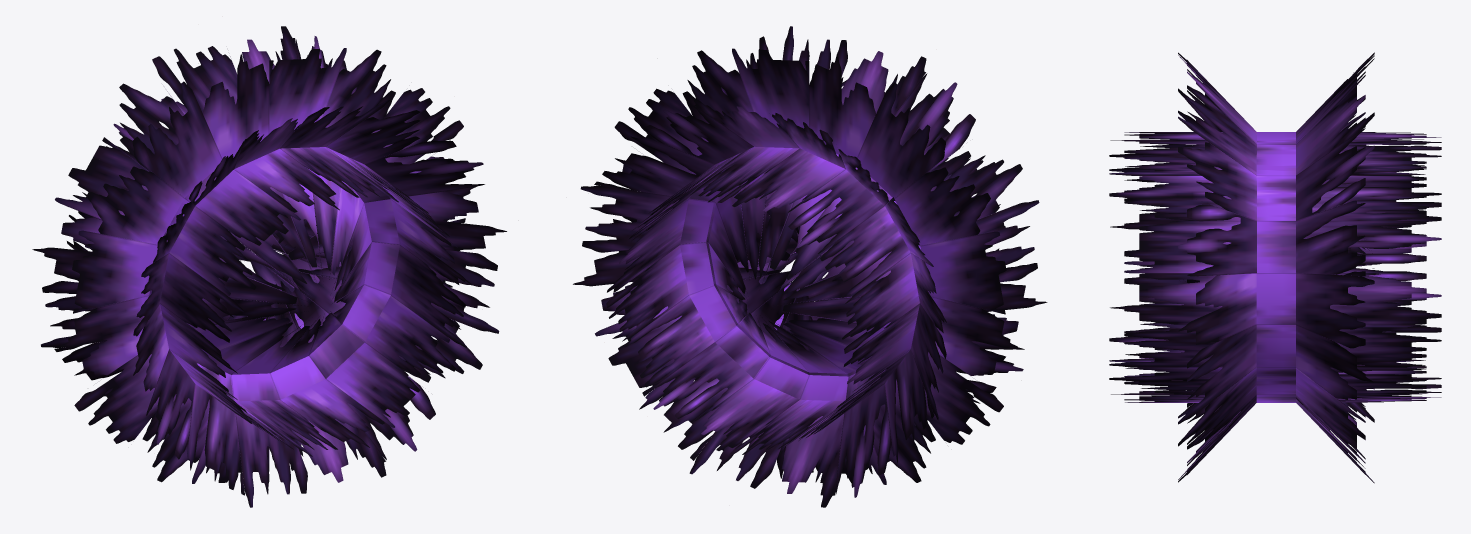
The picture shows the model from 3 angles, left to right: view 1: azimuth 30°, elevation 25°; view 2: azimuth 150°, elevation 25°; view 3: azimuth 270°, elevation 25°; orthographic projection. The views are drawn at different scales.
Parts seen in each view (by area): view 1: T1L7M005_18; view 2: T1L7M005_18; view 3: T1L7M005_18.
Part boxes in pixels (x1,y1,x2,y2): T1L7M005_18: [32, 26, 506, 507]; T1L7M005_18: [573, 26, 1047, 507]; T1L7M005_18: [1109, 52, 1441, 483].
Bounding box in the file's own units: 4.38 × 4.38 × 3.14.
